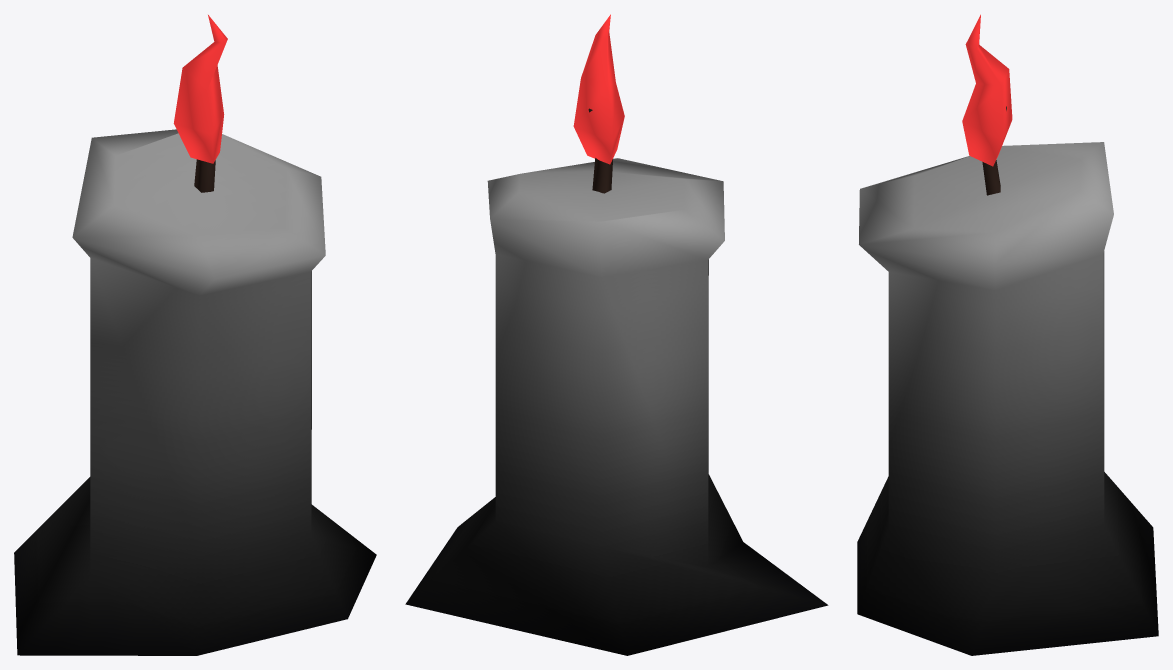
The model's file is CandleShapeD.005.glb.
The picture shows the model from 3 angles, left to right: view 1: azimuth 30°, elevation 25°; view 2: azimuth 150°, elevation 25°; view 3: azimuth 270°, elevation 25°; orthographic projection. The views are drawn at different scales.
Parts seen in each view (by area): view 1: CandleShapeD.005; view 2: CandleShapeD.005; view 3: CandleShapeD.005.
Part boxes in pixels (x1,y1,x2,y2): CandleShapeD.005: (14, 15, 376, 655); CandleShapeD.005: (405, 14, 828, 655); CandleShapeD.005: (857, 14, 1158, 655).
Size of the model in its own units: 0.1822 by 0.2697 by 0.1308.
2 materials, 2 textured.
